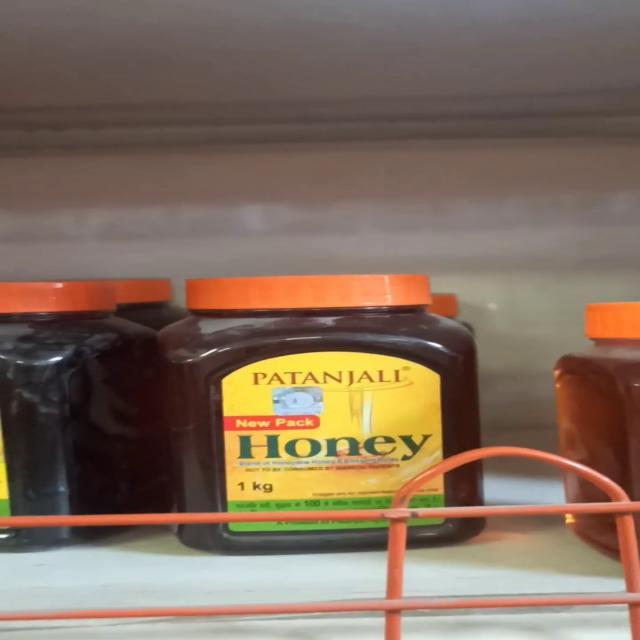Patanjali Honey: (157, 280, 492, 542)
